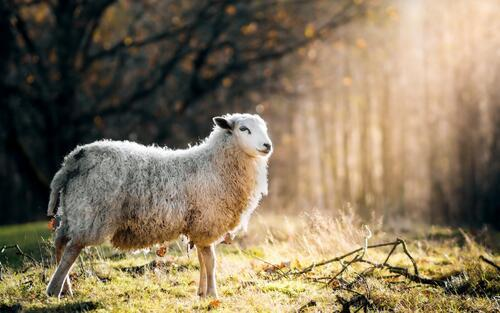sheep: (45, 113, 273, 301)
